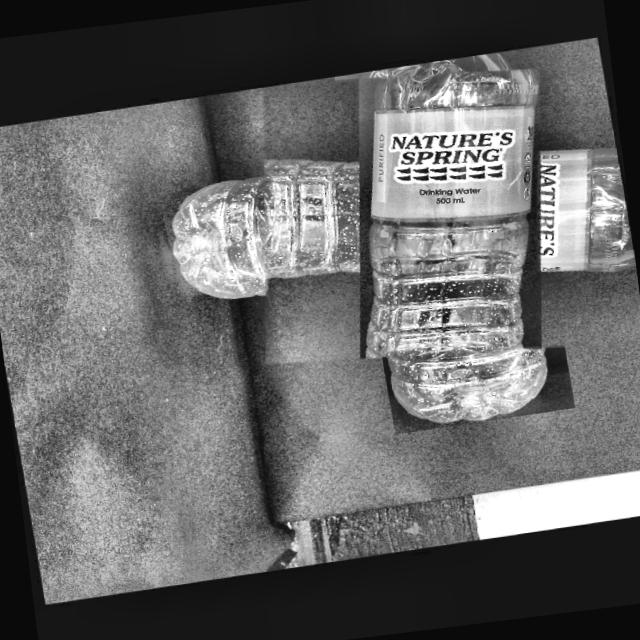Plastic-Bottle: (229, 39, 640, 388)
